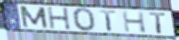H: (46, 6, 73, 31), (121, 10, 148, 34)
M: (18, 5, 50, 30)
O: (72, 7, 97, 33)
T: (98, 9, 118, 32), (148, 12, 168, 35)
